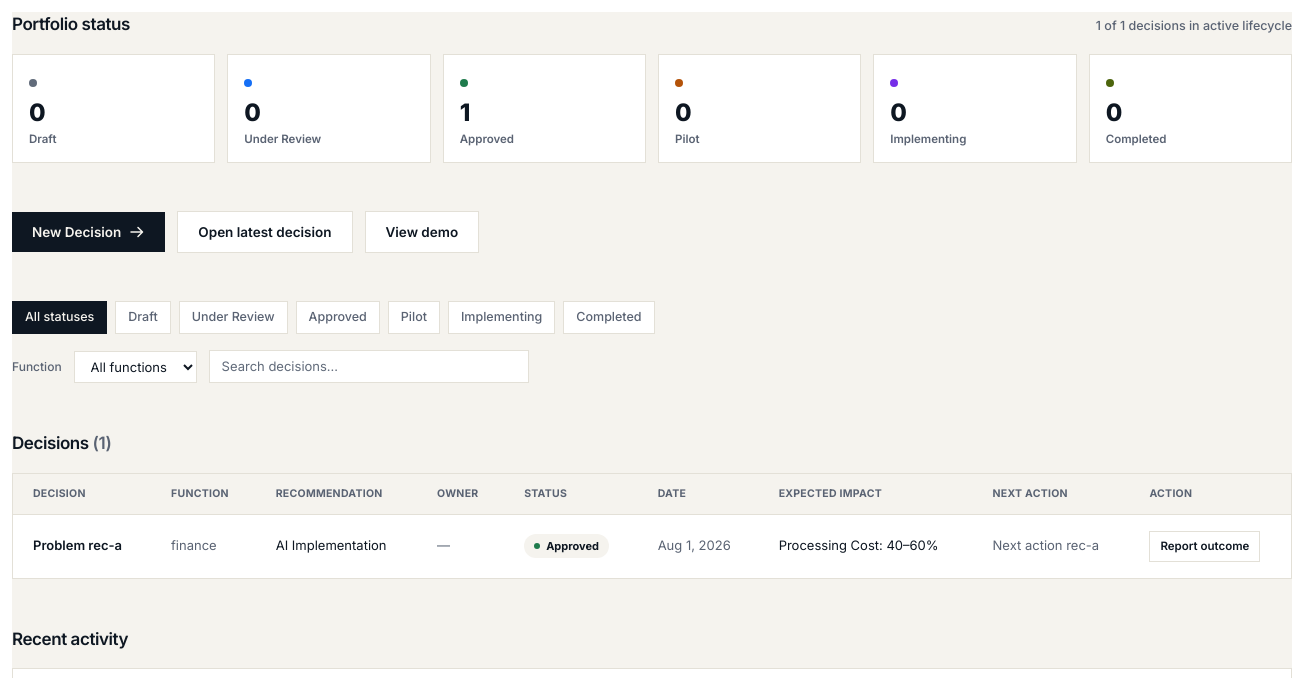
it: Workspace lifecycle actions › records a measured outcome and moves the decision to Completed
Click the button "Report outcome". click: (1205, 546)
box: [1149,530,1260,562]
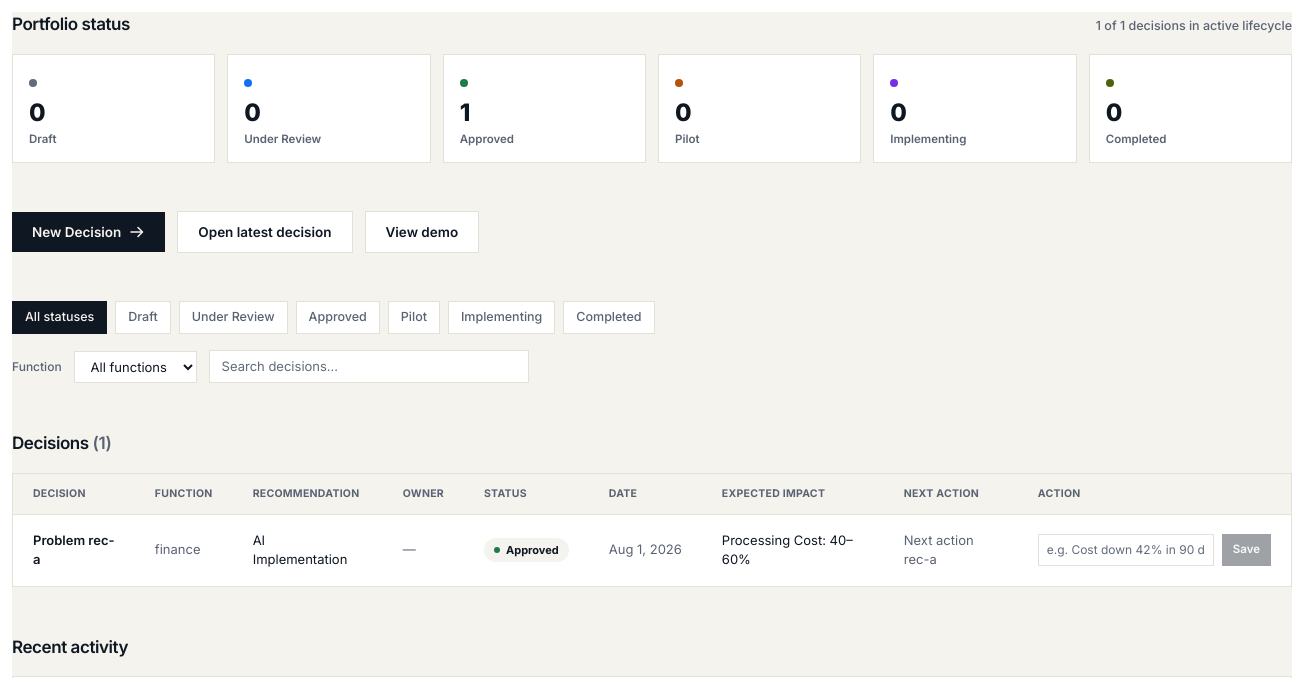
Type "Cost down 42% in 90 days" into the field named "measured result". click: (1126, 550)
box: [1038,534,1214,566]
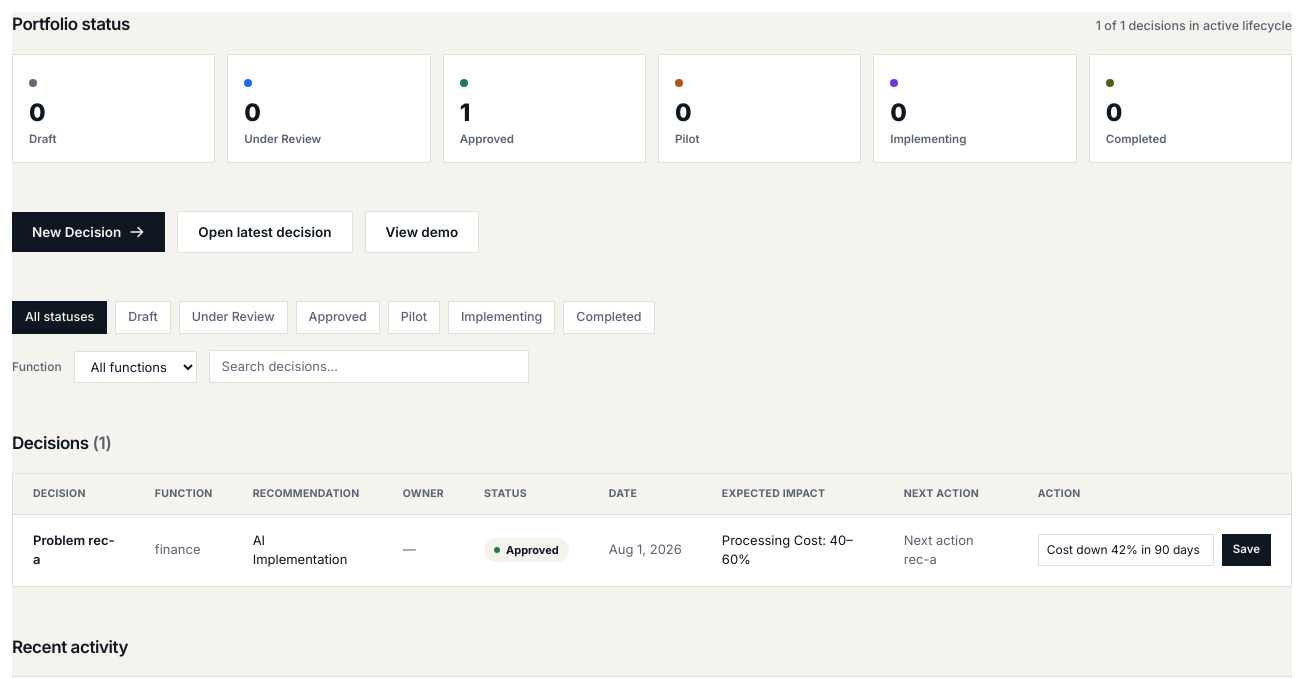
Click the button "Save". click: (1246, 550)
box: [1222,534,1271,566]
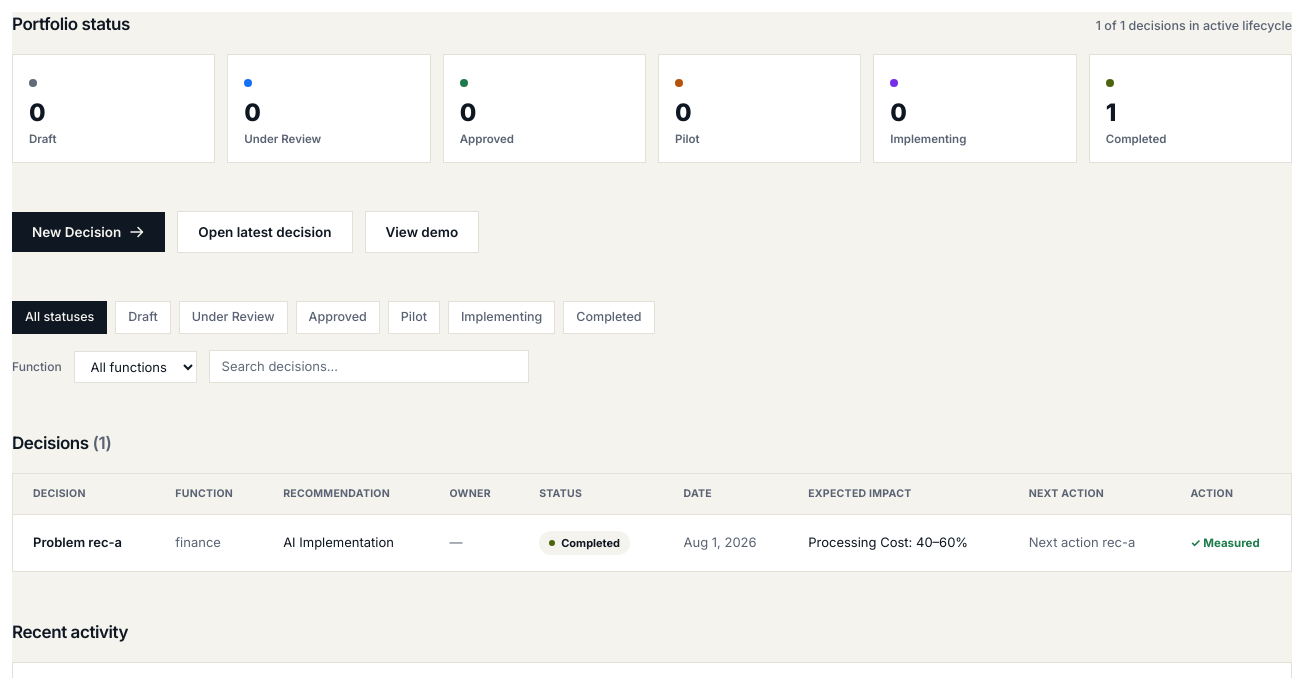
Check: the text "✓ Measured" is shown, box [1190,536,1260,550]
